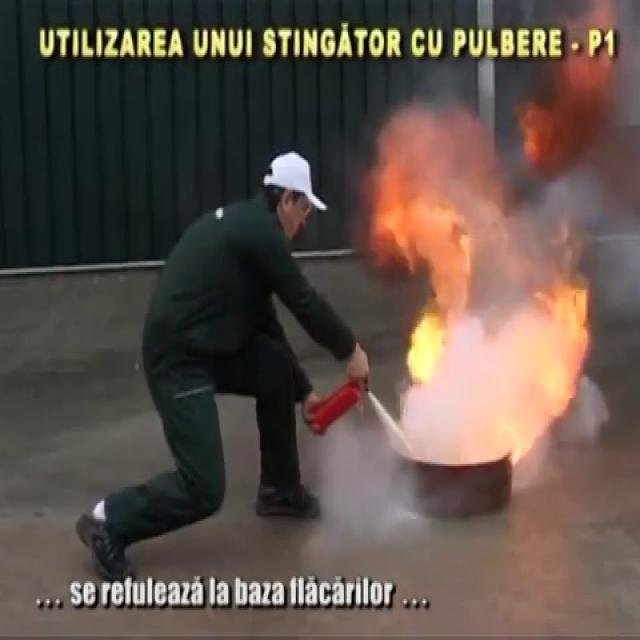Fire: (372, 101, 602, 464)
